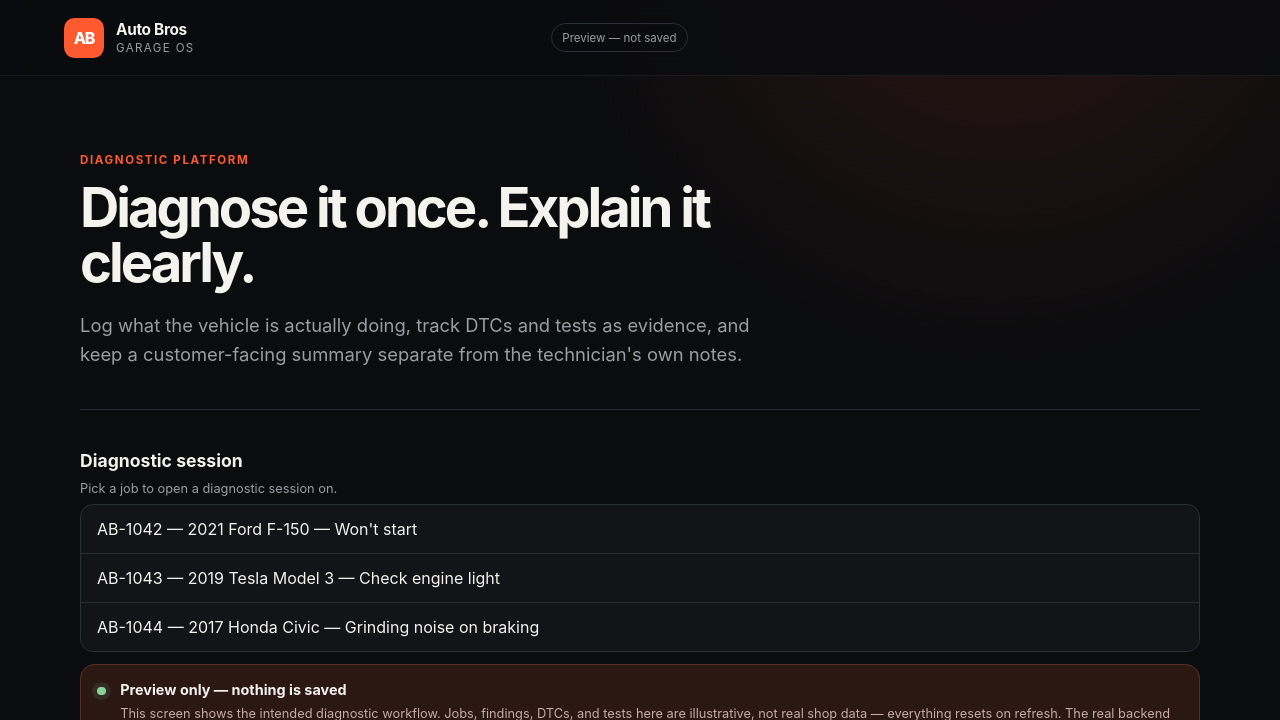
Test: DiagnosticsPage › opens a diagnostic session when a job is picked and logs it to the timeline
The image size is (1280, 720).
Click the button "AB-1042 — 2021 Ford F-150 — Won't start": (257, 529) [81, 505, 1199, 553]
(page scrolled)
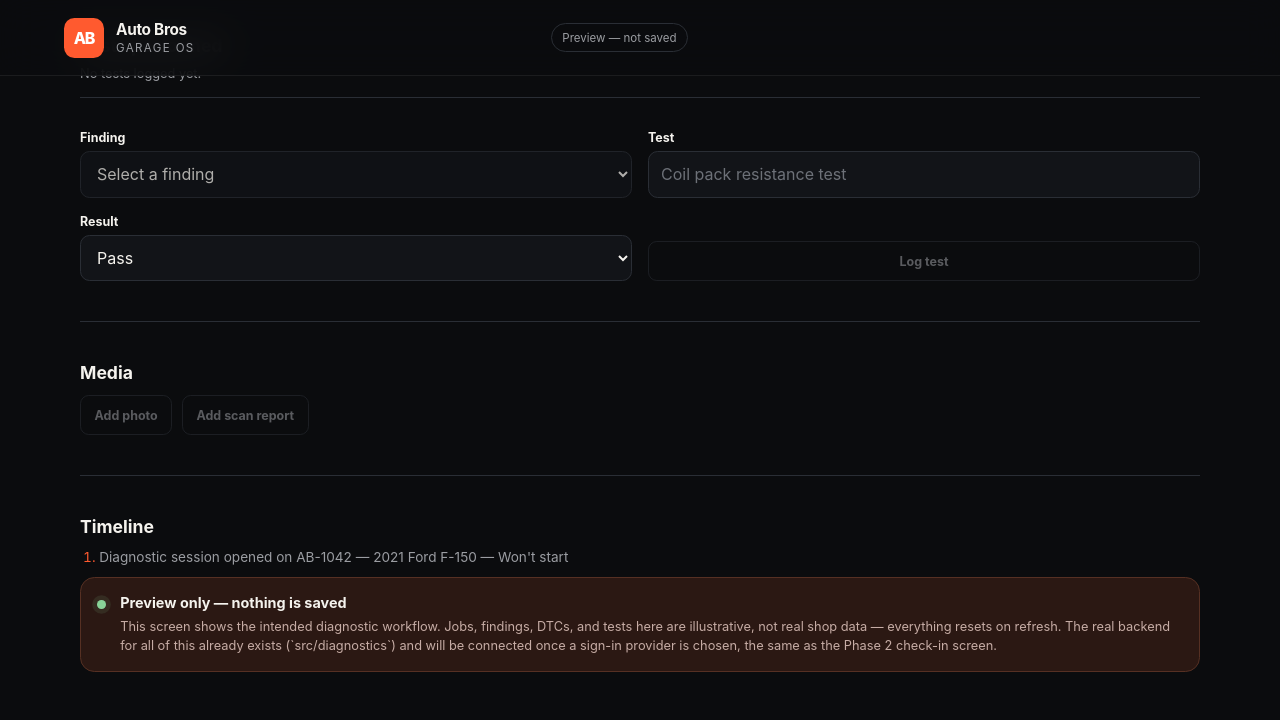
Check: the list item "Diagnostic session opened on AB-1042 — 2021 Ford F-150 — Won't start" is shown, box [99, 549, 568, 565]
